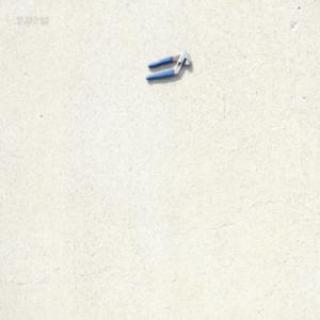Pliertrack_idkeyframe: (144, 49, 190, 82)
